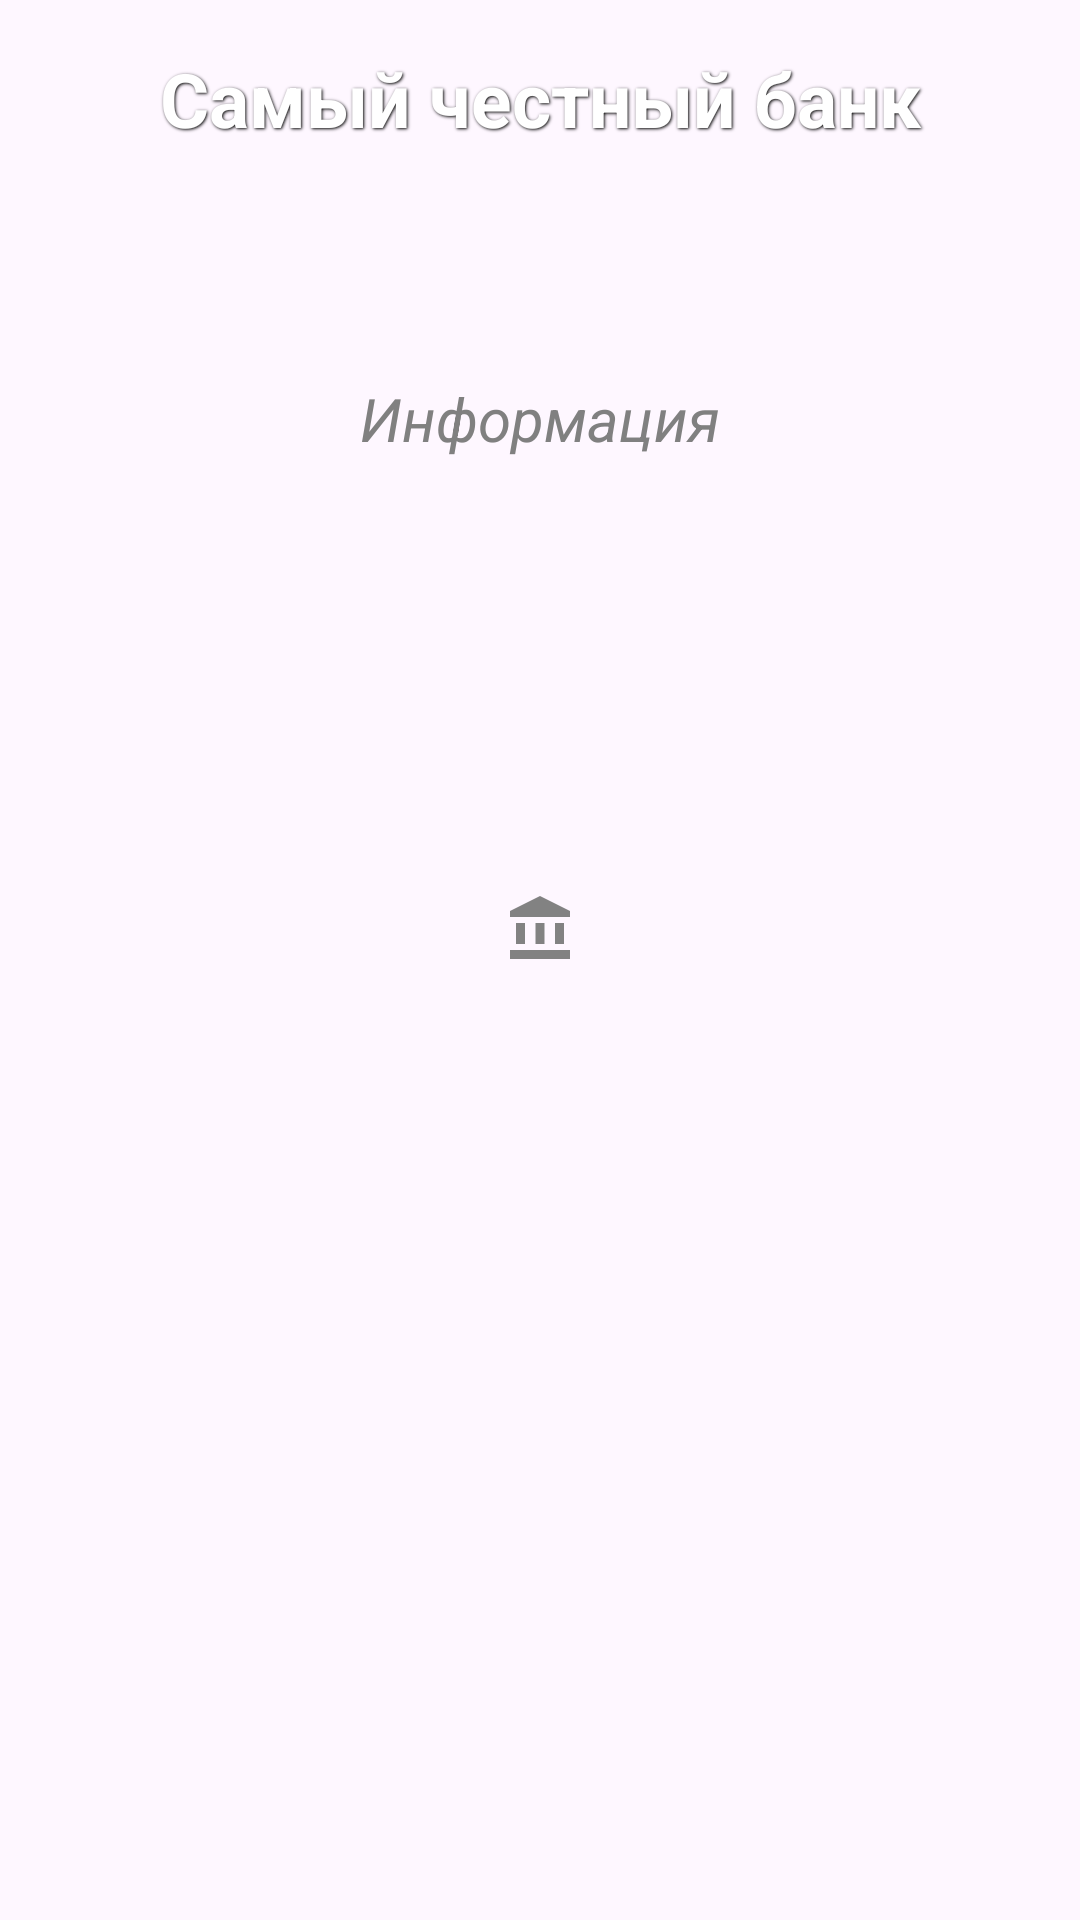

Locate icon controls on the screen. Image size 1080w x 1920h, boxes as {"x1": x1, "y1": y1, "x2": x2, "y2": y2}.
bank: {"x1": 510, "y1": 896, "x2": 570, "y2": 959}
